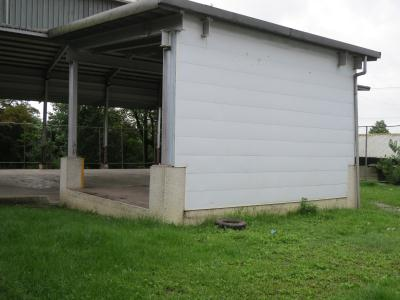tire: (213, 217, 249, 233)
